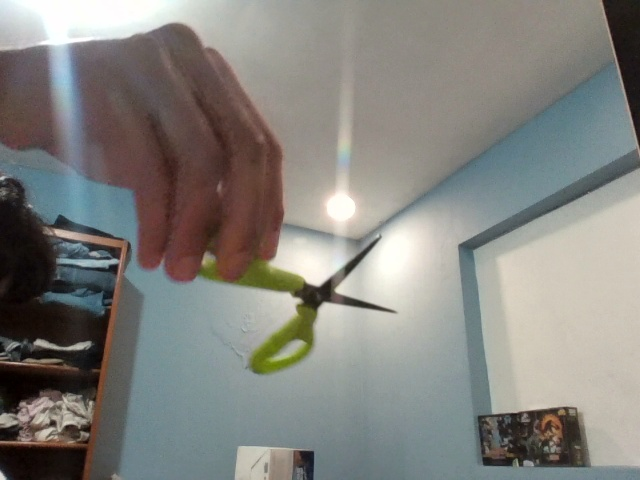tijeras: (194, 235, 399, 375)
